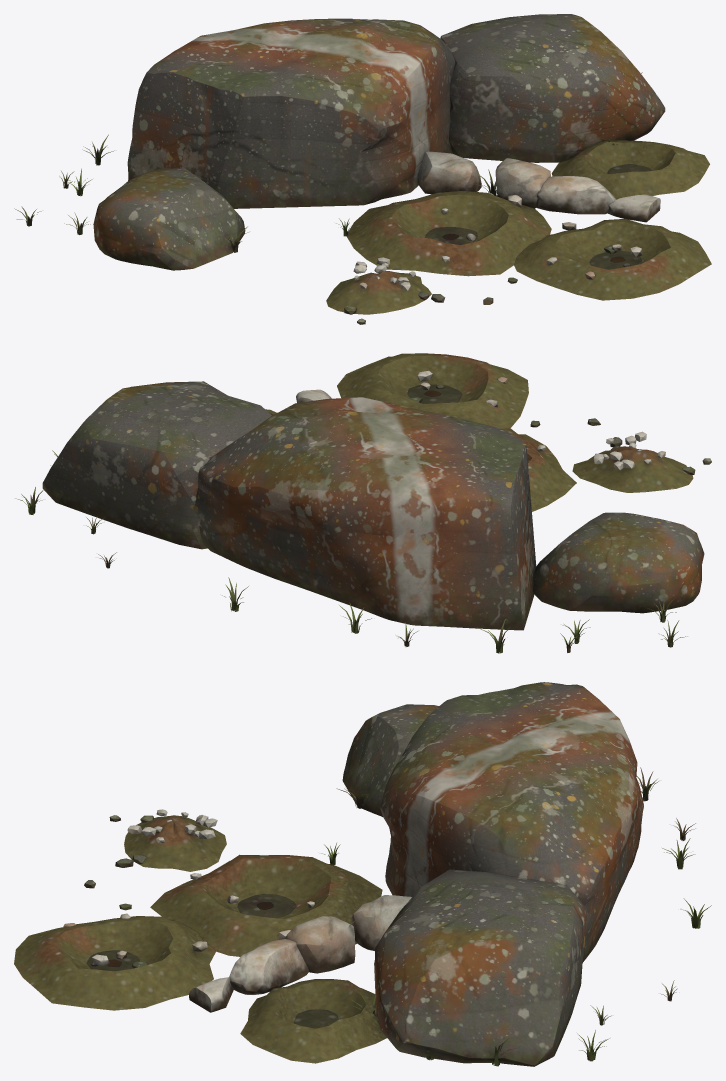
Rendered from gold_vein.glb.
The picture shows the model from 3 angles, top to bottom: view 1: azimuth 30°, elevation 25°; view 2: azimuth 150°, elevation 25°; view 3: azimuth 270°, elevation 25°; orthographic projection. The views are drawn at different scales.
Parts seen in each view (by area): view 1: gold_vein_LOD0; view 2: gold_vein_LOD0; view 3: gold_vein_LOD0.
Part boxes in pixels (left/top/right/bottom): gold_vein_LOD0: left=14, top=14, right=711, bottom=324; gold_vein_LOD0: left=15, top=353, right=711, bottom=653; gold_vein_LOD0: left=14, top=682, right=711, bottom=1066.
Size of what is drawn, in the model's own units: 10.94 by 2.2 by 9.35.
1 material, 1 textured.
